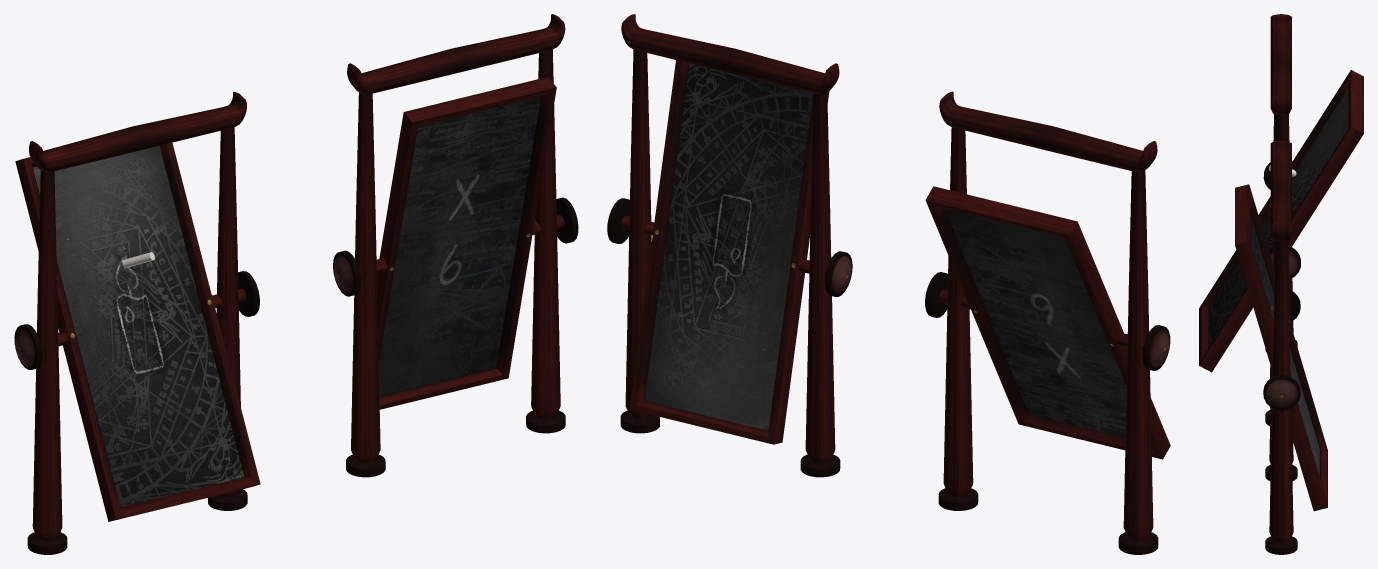
The model's file is Escape Room VR Chalkboard Clue.fbx.
The picture shows the model from 3 angles, left to right: view 1: azimuth 30°, elevation 25°; view 2: azimuth 150°, elevation 25°; view 3: azimuth 270°, elevation 25°; orthographic projection. The views are drawn at different scales.
Parts seen in each view (by area): view 1: Chalkboard1 (×2), Frame (×2), Post_L (×2), Post_R (×2), Post_TOP (×2), Handle_L (×2), Handle_R (×2); view 2: Chalkboard1 (×2), Frame (×2), Post_L (×2), Post_R (×2), Post_TOP (×2), Handle_L (×2), Handle_R (×2); view 3: Frame (×2), Post_R (×2), Chalkboard1 (×2), Post_TOP (×2), Handle_R (×2), Post_L, Handle_L.
Boxes of the visible parts, bbox=[...] form: Chalkboard1 (×2): bbox=[33, 96, 540, 507]; Frame (×2): bbox=[15, 77, 556, 521]; Post_L (×2): bbox=[27, 92, 385, 554]; Post_R (×2): bbox=[208, 49, 565, 510]; Post_TOP (×2): bbox=[29, 14, 565, 171]; Handle_L (×2): bbox=[14, 250, 386, 369]; Handle_R (×2): bbox=[212, 197, 578, 316]; Chalkboard1 (×2): bbox=[644, 63, 1126, 437]; Frame (×2): bbox=[629, 60, 1170, 459]; Post_L (×2): bbox=[800, 92, 1158, 554]; Post_R (×2): bbox=[620, 49, 978, 510]; Post_TOP (×2): bbox=[621, 14, 1157, 171]; Handle_L (×2): bbox=[798, 251, 1170, 370]; Handle_R (×2): bbox=[607, 198, 970, 317]; Frame (×2): bbox=[1199, 70, 1363, 511]; Post_R (×2): bbox=[1265, 114, 1297, 554]; Chalkboard1 (×2): bbox=[1209, 88, 1348, 476]; Post_TOP (×2): bbox=[1270, 14, 1291, 242]; Handle_R (×2): bbox=[1263, 246, 1300, 410]; Post_L: bbox=[1265, 241, 1297, 480]; Handle_L: bbox=[1290, 290, 1300, 321].
Bounding box in the file's own units: 4.87 × 3.41 × 1.54.
2 materials, 2 textured.
